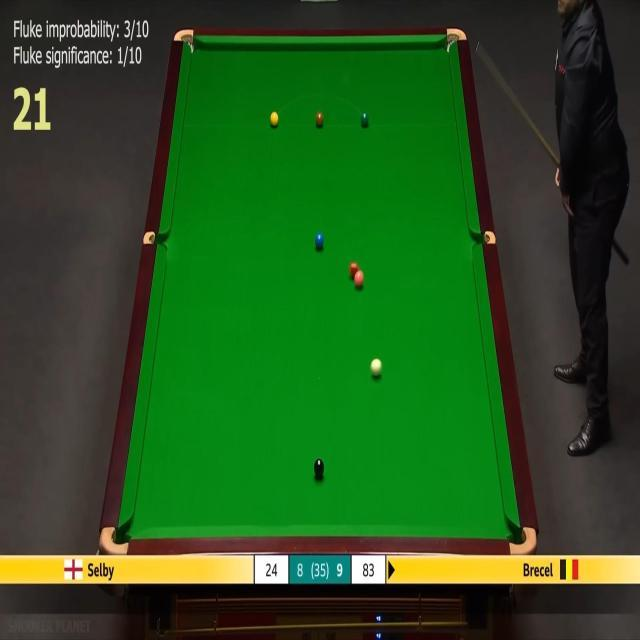Ball: (370, 358, 382, 378), (314, 458, 324, 478), (314, 232, 324, 250), (354, 270, 364, 287), (360, 112, 370, 126), (350, 262, 358, 277), (316, 112, 324, 126), (270, 112, 278, 126)
